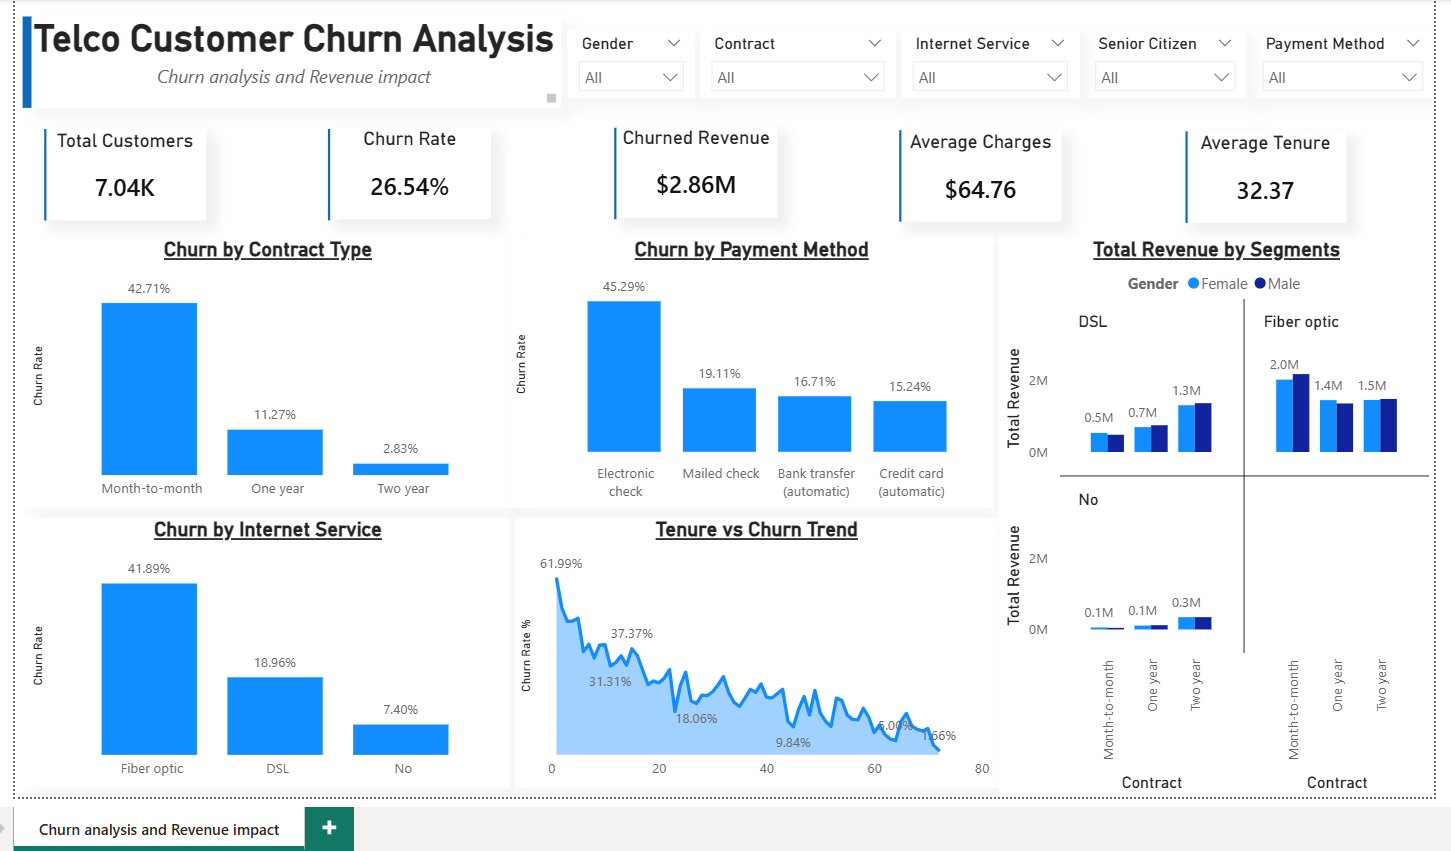

The dashboard page shown, as its layout file describes it:
{"tool":"powerbi","page":{"name":"Churn analysis and Revenue impact","canvas":[1280,720],"ordinal":0},"visuals":[{"type":"cardVisual","title":"Total Customers","fields":{"Data":["Telco Customer Churn Table.Total Customers"]},"box":[25.6,117.4,146.5,82.6],"z":0},{"type":"cardVisual","title":"Churn Rate","fields":{"Data":["Telco Customer Churn Table.Churn Rate %"]},"box":[283.1,116.3,146.5,82.6],"z":1000},{"type":"cardVisual","title":"Churned Revenue","fields":{"Data":["Telco Customer Churn Table.Churned Revenue"]},"box":[540.7,115.1,146.5,82],"z":2000},{"type":"cardVisual","title":"Average Charges","fields":{"Data":["Telco Customer Churn Table.Average Monthly Charges"]},"box":[798.3,118.6,145.3,82.6],"z":3000},{"type":"cardVisual","title":"Average Tenure","fields":{"Data":["Telco Customer Churn Table.Average Tenure"]},"box":[1054.7,119.8,145.3,82.6],"z":4000},{"type":"clusteredColumnChart","title":"Churn by Contract Type","fields":{"Category":["Telco Customer Churn Table.Contract"],"Y":["Telco Customer Churn Table.Churn Rate %"]},"box":[10.5,215.1,436,244.2],"z":5000},{"type":"clusteredColumnChart","title":"Churn by Payment Method","fields":{"Category":["Telco Customer Churn Table.Payment Method"],"Y":["Telco Customer Churn Table.Churn Rate %"]},"box":[446.5,215.1,436,244.2],"z":6000},{"type":"clusteredColumnChart","title":"Churn by Internet Service","fields":{"Category":["Telco Customer Churn Table.Internet Service"],"Y":["Telco Customer Churn Table.Churn Rate %"]},"box":[10.5,467.4,436,244],"z":7000},{"type":"areaChart","title":"Tenure vs Churn Trend","fields":{"Category":["Telco Customer Churn Table.Tenure Months"],"Y":["Telco Customer Churn Table.Churn Rate %"]},"box":[451.2,467.4,436,244],"z":8000},{"type":"clusteredColumnChart","title":"Total Revenue by Segments","fields":{"Y":["Telco Customer Churn Table.Total Revenue"],"Category":["Telco Customer Churn Table.Contract"],"Series":["Telco Customer Churn Table.Gender"],"Rows":["Telco Customer Churn Table.Internet Service"]},"box":[887.2,215.1,393,504.7],"z":9000},{"type":"textbox","title":"Telco Customer Churn Analysis","box":[10.5,16.3,482.6,82.6],"z":10000},{"type":"slicer","fields":{"Values":["Telco Customer Churn Table.Gender"]},"box":[497.7,26.7,115.1,62.8],"z":11000},{"type":"slicer","fields":{"Values":["Telco Customer Churn Table.Contract"]},"box":[617.4,26.7,176.7,62.8],"z":12000},{"type":"slicer","fields":{"Values":["Telco Customer Churn Table.Payment Method"]},"box":[1114.9,26.7,165.1,62.8],"z":13000},{"type":"slicer","fields":{"Values":["Telco Customer Churn Table.Senior Citizen"]},"box":[964,26.7,146.5,62.8],"z":14000},{"type":"slicer","fields":{"Values":["Telco Customer Churn Table.Internet Service"]},"box":[798.8,26.7,160.5,62.8],"z":15000},{"type":"shape","box":[0,117.4,54.7,82.6],"z":16000},{"type":"shape","box":[770.9,118.6,54.7,82.6],"z":17000},{"type":"shape","box":[514,116.3,54.7,82.6],"z":18000},{"type":"shape","box":[255.8,117.4,54.7,82.6],"z":19000},{"type":"shape","box":[1029.1,119.8,54.7,82.6],"z":20000},{"type":"shape","box":[5.8,16.3,10.5,82.6],"z":21000}]}

Visuals, with their boxes on the page's 1280x720 design canvas (x1, y1, x2, y2). These are canvas units, not pixel positions in the 1451x851 screenshot, which may show the page scaled, cropped or inside an application window:
"Total Customers" cardVisual: box(26, 117, 172, 200)
"Churn Rate" cardVisual: box(283, 116, 430, 199)
"Churned Revenue" cardVisual: box(541, 115, 687, 197)
"Average Charges" cardVisual: box(798, 119, 944, 201)
"Average Tenure" cardVisual: box(1055, 120, 1200, 202)
"Churn by Contract Type" clusteredColumnChart: box(10, 215, 446, 459)
"Churn by Payment Method" clusteredColumnChart: box(446, 215, 882, 459)
"Churn by Internet Service" clusteredColumnChart: box(10, 467, 446, 711)
"Tenure vs Churn Trend" areaChart: box(451, 467, 887, 711)
"Total Revenue by Segments" clusteredColumnChart: box(887, 215, 1280, 720)
"Telco Customer Churn Analysis" textbox: box(10, 16, 493, 99)
slicer - Telco Customer Churn Table.Gender: box(498, 27, 613, 90)
slicer - Telco Customer Churn Table.Contract: box(617, 27, 794, 90)
slicer - Telco Customer Churn Table.Payment Method: box(1115, 27, 1280, 90)
slicer - Telco Customer Churn Table.Senior Citizen: box(964, 27, 1110, 90)
slicer - Telco Customer Churn Table.Internet Service: box(799, 27, 959, 90)
shape: box(0, 117, 55, 200)
shape: box(771, 119, 826, 201)
shape: box(514, 116, 569, 199)
shape: box(256, 117, 310, 200)
shape: box(1029, 120, 1084, 202)
shape: box(6, 16, 16, 99)
